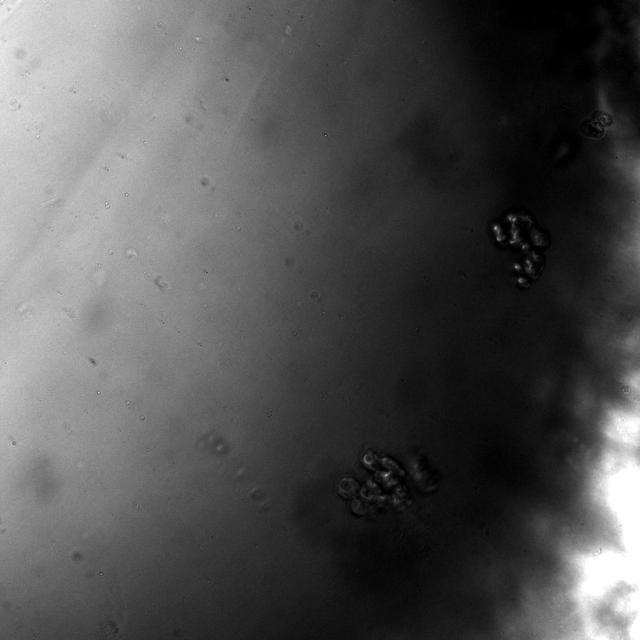organoid: (336, 448, 441, 517), (491, 207, 550, 287)
